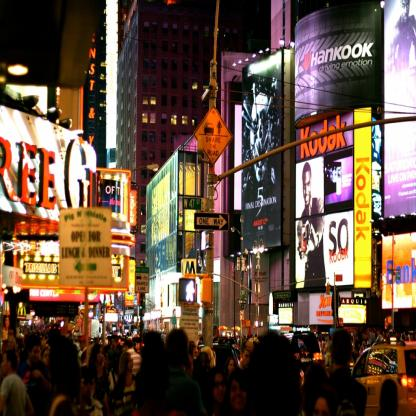Car: (352, 341, 416, 416), (283, 331, 325, 387), (198, 341, 240, 374), (132, 334, 146, 354)
